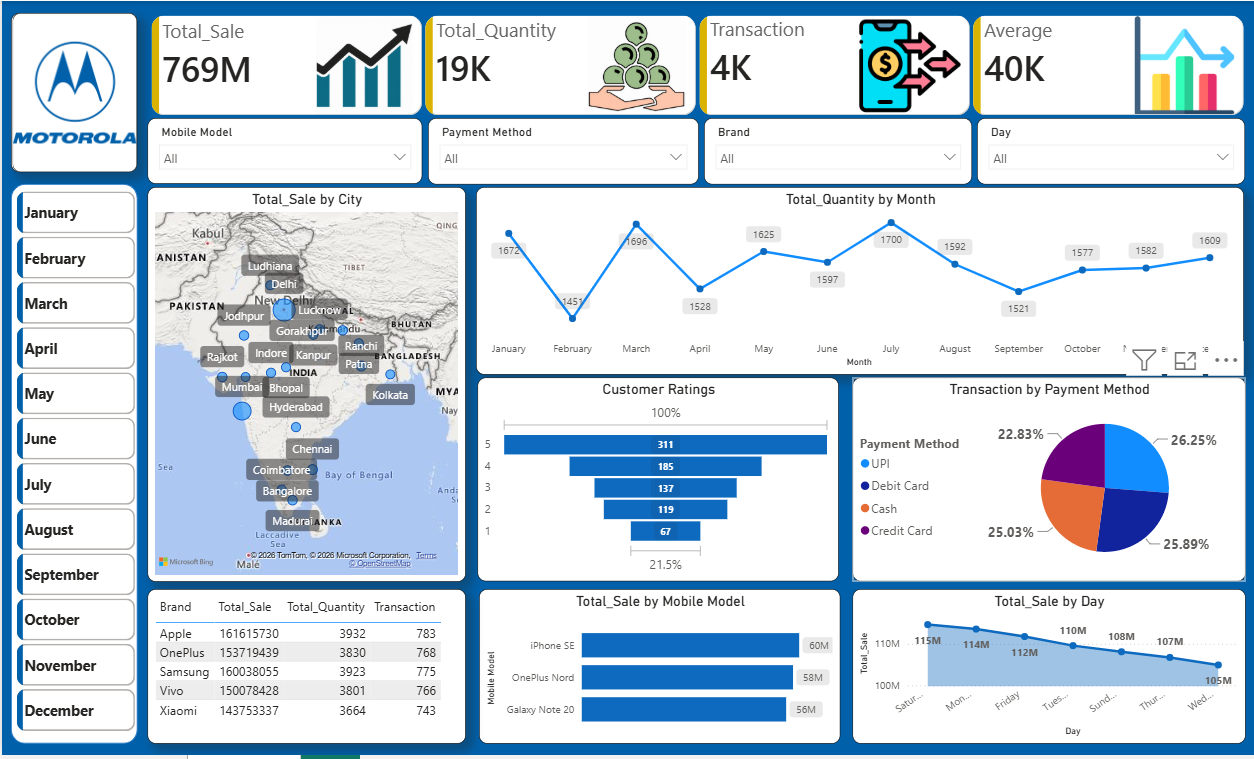

Layout of this report page (visuals, bound fields, positions):
{"tool":"powerbi","page":{"name":"Page 1","canvas":[1500,900],"ordinal":0},"visuals":[{"type":"shape","box":[10.7,14.3,150.4,189.8],"z":0},{"type":"image","box":[12.5,14.3,148.6,189.8],"z":1000},{"type":"shape","box":[9.9,218.7,151.1,668.1],"z":2000},{"type":"advancedSlicerVisual","fields":{"Values":["Sales_Data.Date.Variation.Date Hierarchy.Month"]},"box":[11.9,222.7,151.1,664.1],"z":3000},{"type":"cardVisual","fields":{"Data":["Sales_Data.Total_Sale","Sales_Data.Total_Quantity","Sales_Data.Transaction","Sales_Data.Average"]},"box":[161.1,0,1339.3,154],"z":4000},{"type":"map","fields":{"Category":["Sales_Data.City"],"Size":["Sales_Data.Total_Sale"]},"box":[173,222.7,379.8,471.2],"z":5000},{"type":"lineChart","fields":{"Category":["Sales_Data.Date.Variation.Date Hierarchy.Month","Sales_Data.Date.Variation.Date Hierarchy.Day"],"Y":["Sales_Data.Total_Quantity"]},"box":[565.8,222,916.7,223.8],"z":6000},{"type":"clusteredBarChart","fields":{"Category":["Sales_Data.Mobile Model"],"Y":["Sales_Data.Total_Sale"]},"box":[569.4,701.9,431.5,184.4],"z":7000},{"type":"pieChart","fields":{"Category":["Sales_Data.Payment Method"],"Y":["Sales_Data.Transaction"]},"box":[1015.2,449.4,469.1,243.5],"z":8000},{"type":"funnel","title":" Customer Ratings","fields":{"Category":["Sales_Data.Customer Ratings"],"Y":["CountNonNull(Sales_Data.Customer Ratings)"]},"box":[567.6,449.4,431.5,243.5],"z":9000},{"type":"areaChart","fields":{"Category":["Sales_Data.Day"],"Y":["Sales_Data.Total_Sale"]},"box":[1015.2,701.9,469.1,184.4],"z":10000},{"type":"tableEx","fields":{"Values":["Sales_Data.Brand","Sales_Data.Total_Sale","Sales_Data.Total_Quantity","Sales_Data.Transaction"]},"box":[173,701.9,379.8,184.9],"z":11000},{"type":"slicer","fields":{"Values":["Sales_Data.Mobile Model"]},"box":[173.7,139.7,328,78.8],"z":12000},{"type":"slicer","fields":{"Values":["Sales_Data.Payment Method"]},"box":[509,139.2,323,79.5],"z":13000},{"type":"slicer","fields":{"Values":["Sales_Data.Brand"]},"box":[837.1,139.2,320.1,79.5],"z":14000},{"type":"slicer","fields":{"Values":["Sales_Data.Day"]},"box":[1163.1,139.2,320.1,79.5],"z":15000}]}

Visuals, with their boxes in screenshot pixels (x1, y1, x2, y2), scaled from the page's 1500x900 canvas onto the 1254x759 screenshot:
shape: l=9, t=12, r=135, b=172
image: l=10, t=12, r=135, b=172
shape: l=8, t=184, r=135, b=748
advancedSlicerVisual - Sales_Data.Date.Variation.Date Hierarchy.Month: l=10, t=188, r=136, b=748
cardVisual - Sales_Data.Total_Sale x Sales_Data.Total_Quantity: l=135, t=0, r=1253, b=130
map - Sales_Data.City x Sales_Data.Total_Sale: l=145, t=188, r=462, b=585
lineChart - Sales_Data.Date.Variation.Date Hierarchy.Month x Sales_Data.Date.Variation.Date Hierarchy.Day: l=473, t=187, r=1239, b=376
clusteredBarChart - Sales_Data.Mobile Model x Sales_Data.Total_Sale: l=476, t=592, r=837, b=747
pieChart - Sales_Data.Payment Method x Sales_Data.Transaction: l=849, t=379, r=1241, b=584
" Customer Ratings" funnel: l=475, t=379, r=835, b=584
areaChart - Sales_Data.Day x Sales_Data.Total_Sale: l=849, t=592, r=1241, b=747
tableEx - Sales_Data.Brand x Sales_Data.Total_Sale: l=145, t=592, r=462, b=748
slicer - Sales_Data.Mobile Model: l=145, t=118, r=419, b=184
slicer - Sales_Data.Payment Method: l=426, t=117, r=696, b=184
slicer - Sales_Data.Brand: l=700, t=117, r=967, b=184
slicer - Sales_Data.Day: l=972, t=117, r=1240, b=184
